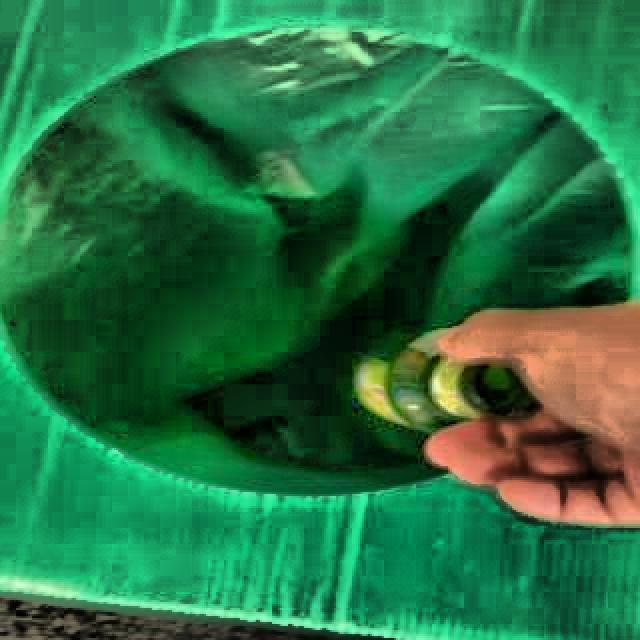glass: (355, 329, 539, 432)
